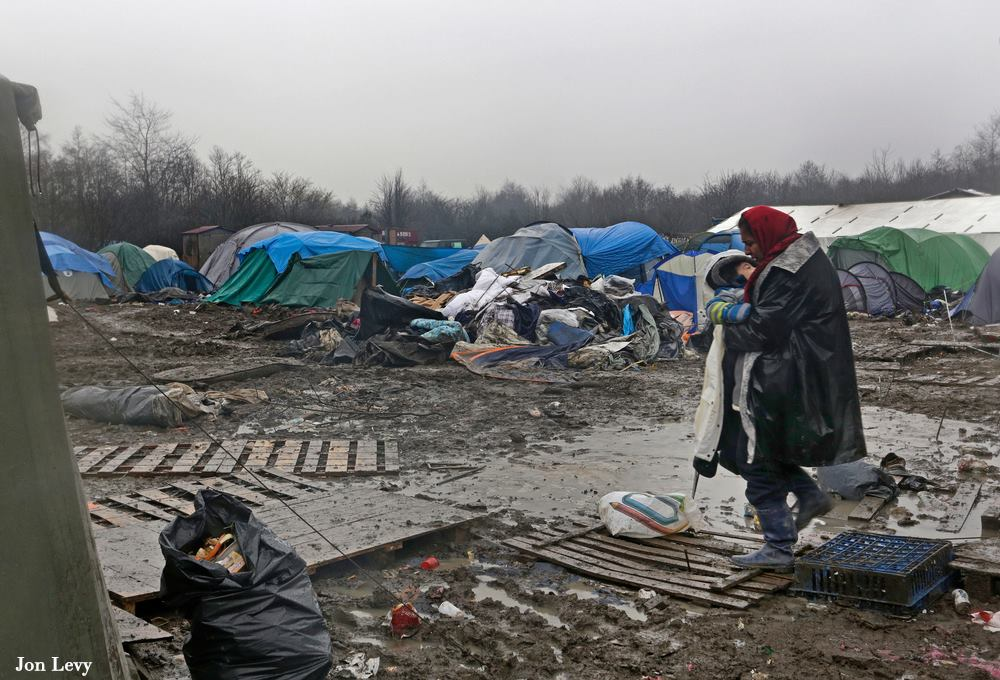can: (953, 583, 971, 607)
person: (703, 201, 870, 573), (712, 254, 759, 332)
sky: (44, 1, 998, 130)
trash: (151, 482, 338, 680), (376, 268, 672, 366), (386, 608, 434, 641), (421, 557, 440, 572)
water: (484, 422, 685, 485), (874, 405, 965, 455), (902, 493, 982, 537), (481, 582, 502, 600), (573, 583, 594, 598), (510, 596, 528, 609)
